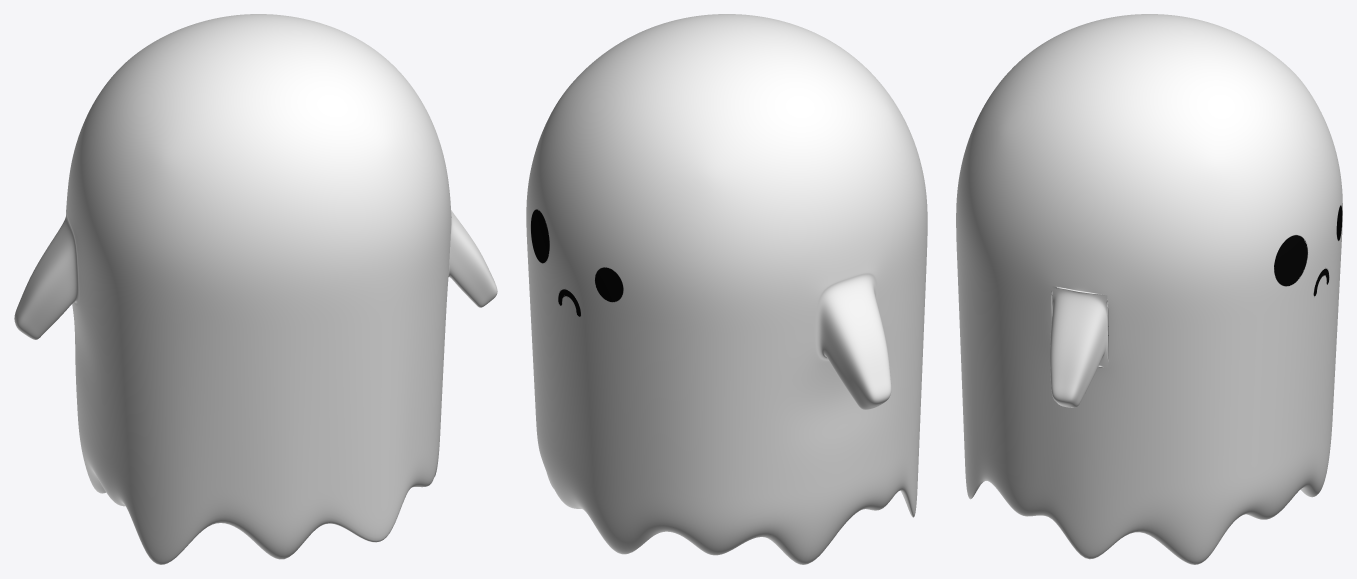
Rendered from boo.glb.
The picture shows the model from 3 angles, left to right: view 1: azimuth 30°, elevation 25°; view 2: azimuth 150°, elevation 25°; view 3: azimuth 270°, elevation 25°; orthographic projection. The views are drawn at different scales.
Parts seen in each view (by area): view 1: Cube; view 2: Cube; view 3: Cube.
Part boxes in pixels (x1,y1,x2,y2): Cube: (14, 14, 497, 564); Cube: (526, 14, 927, 564); Cube: (956, 14, 1342, 564).
Bounding box in the file's own units: 1.99 × 2.23 × 1.68.
Materials: 1 (1 with a texture image).
